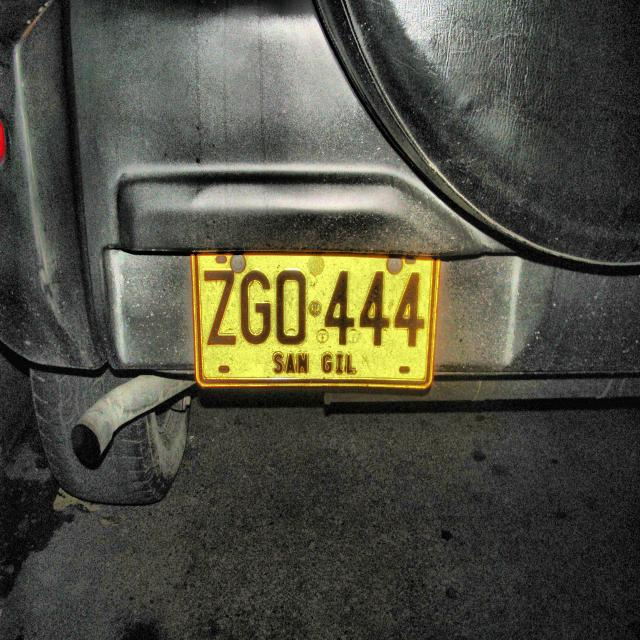plate: (192, 255, 440, 390)
